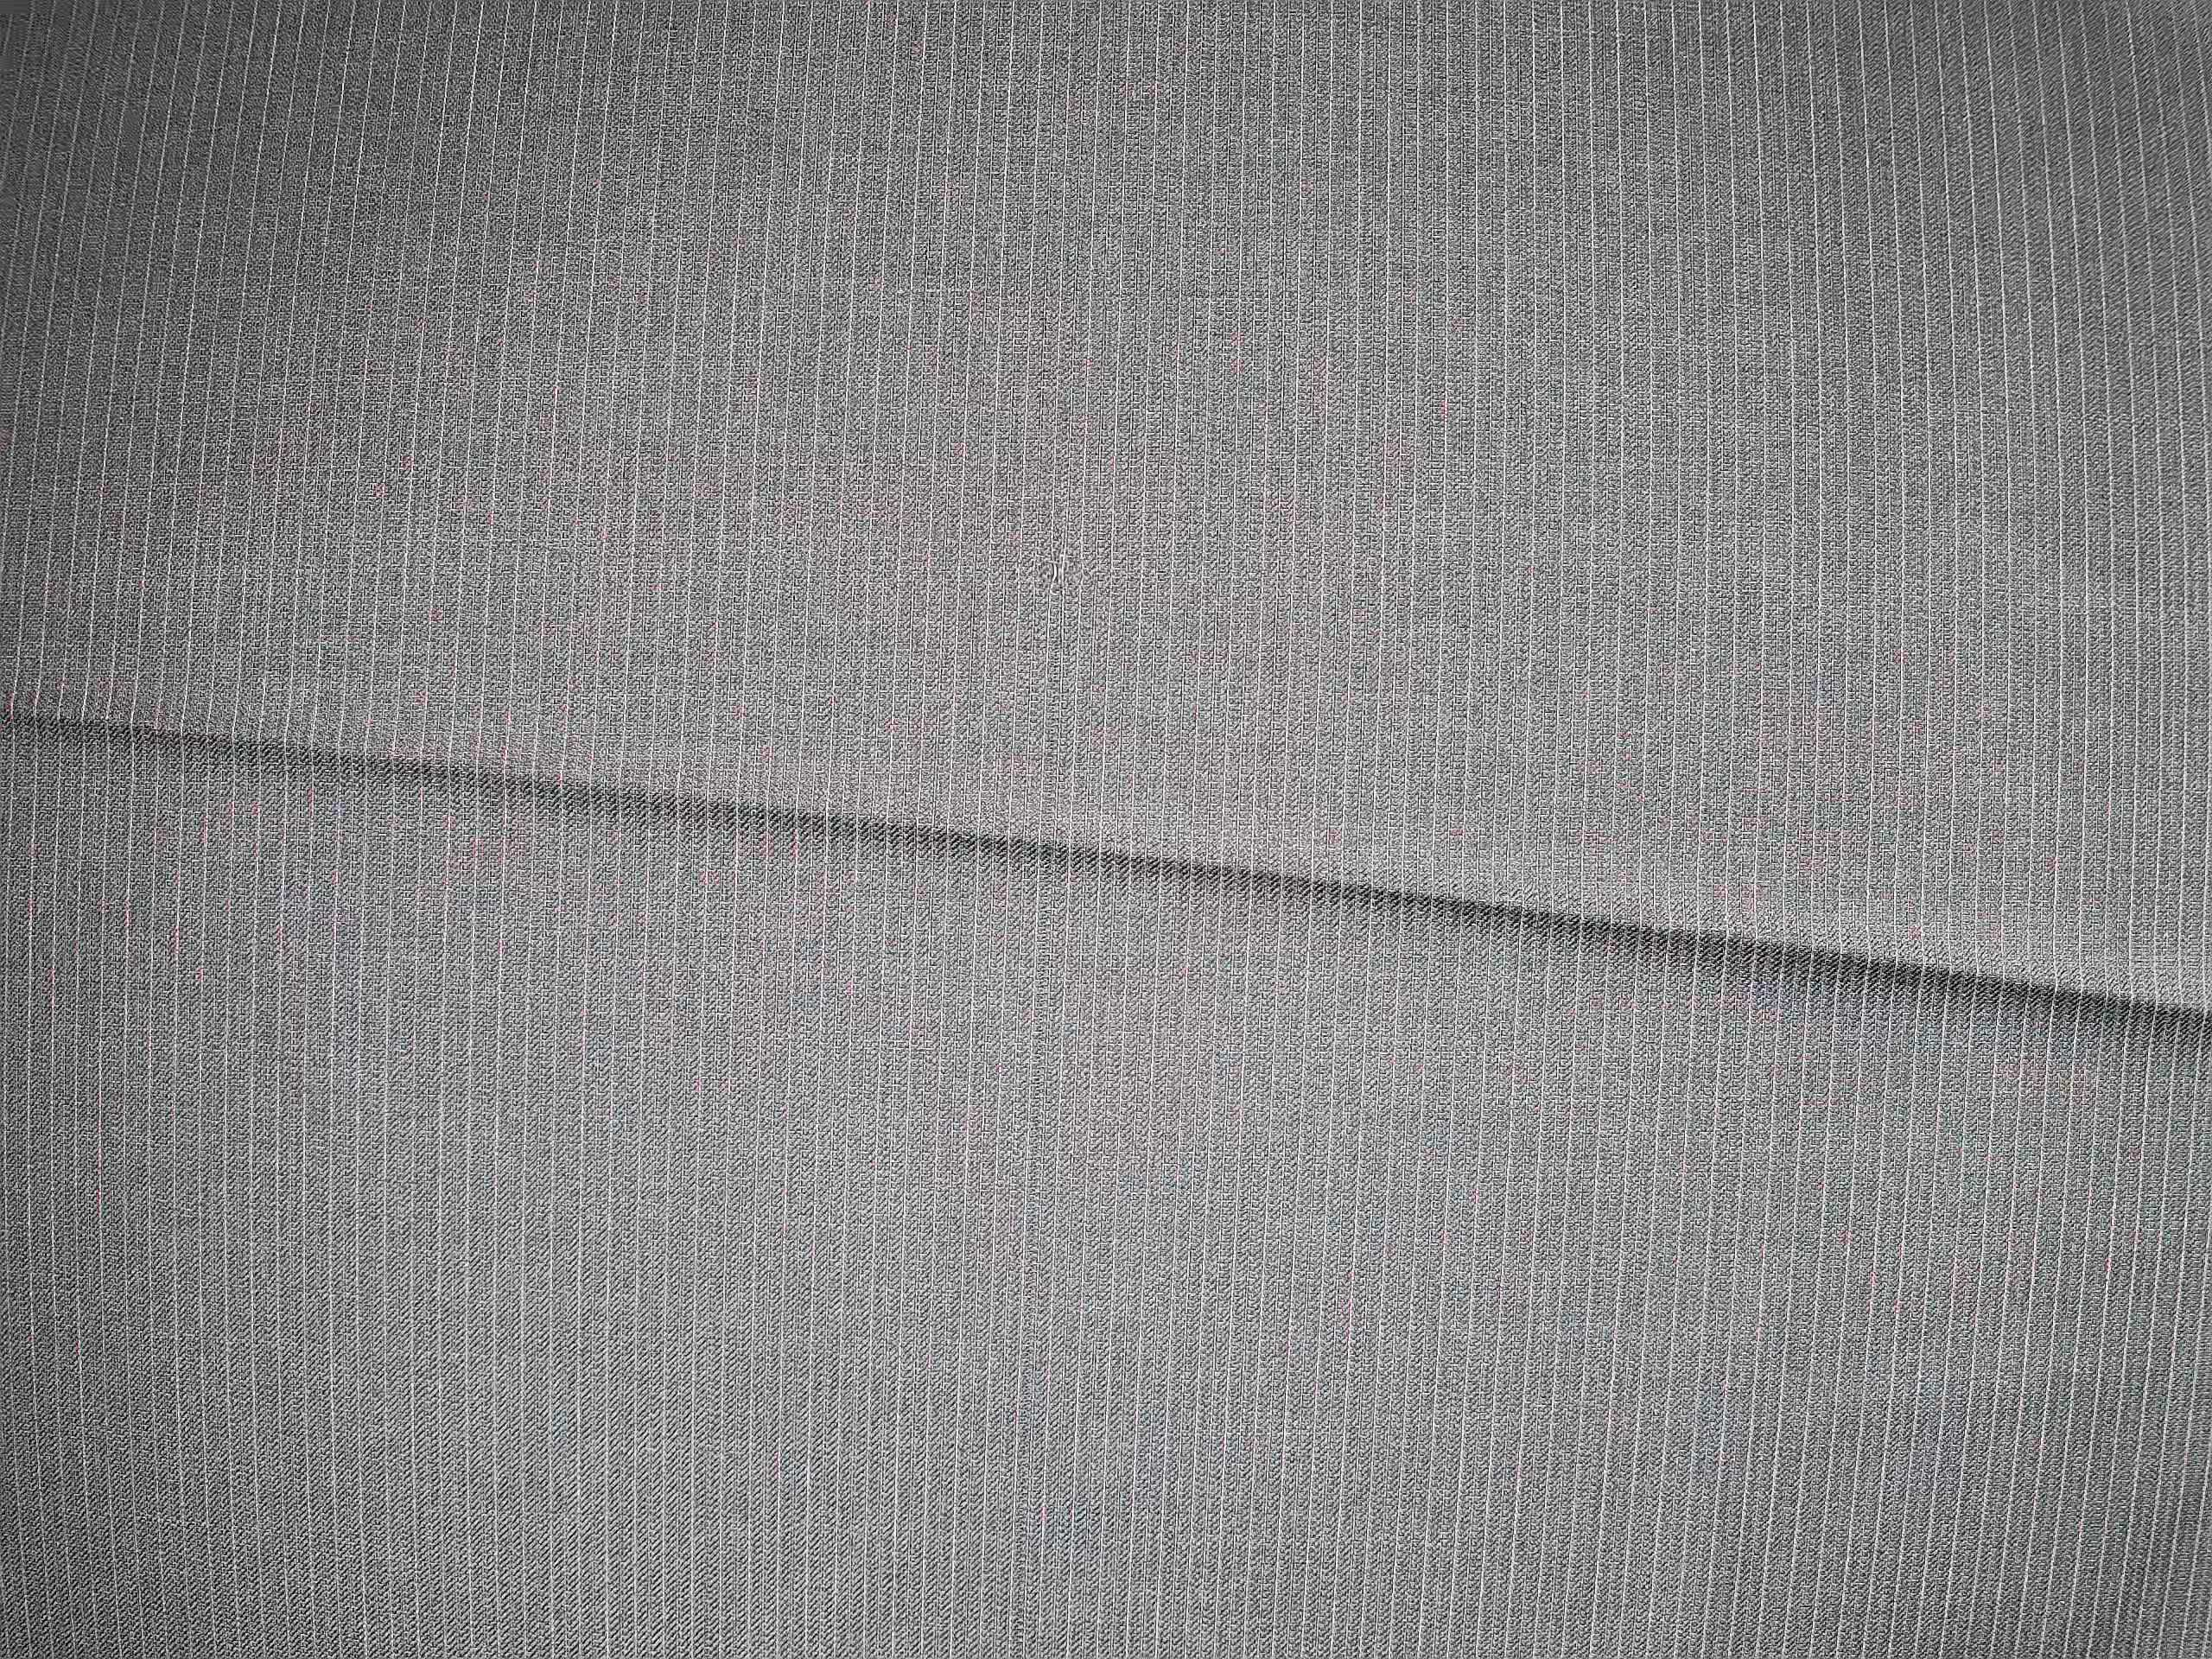rubbing-hole: (1007, 538, 1090, 613)
